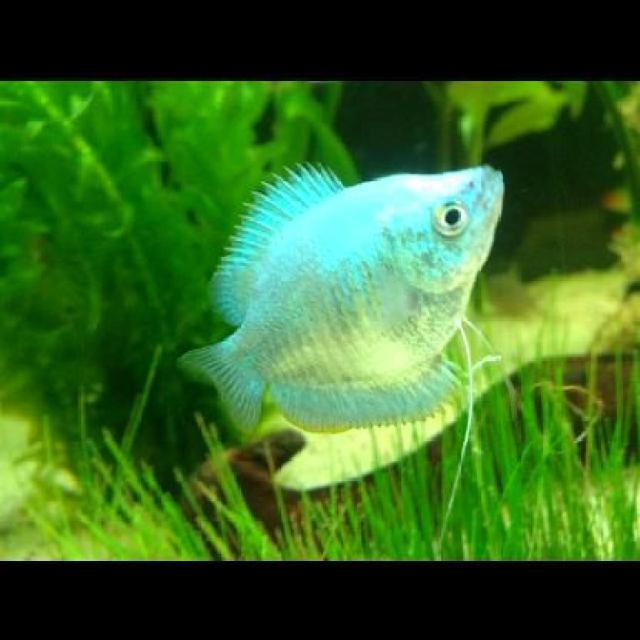Gourami: (174, 155, 512, 448)
